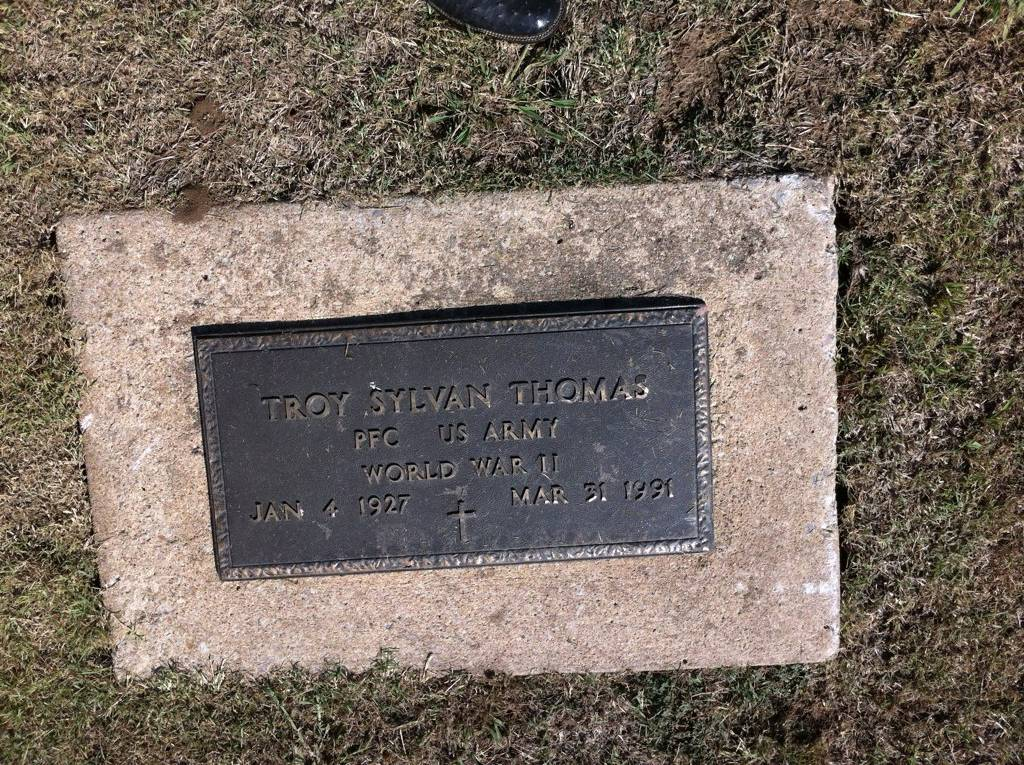flat: (190, 301, 714, 580)
